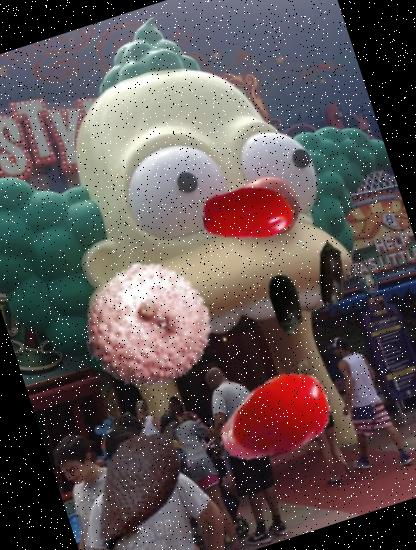Eggplant: (288, 230, 374, 317), (245, 263, 330, 349)
Lychee: (68, 242, 230, 406)
Pear: (80, 295, 152, 366)
Salak: (48, 393, 228, 550)
Tomato: (201, 342, 348, 490), (191, 156, 306, 270)
